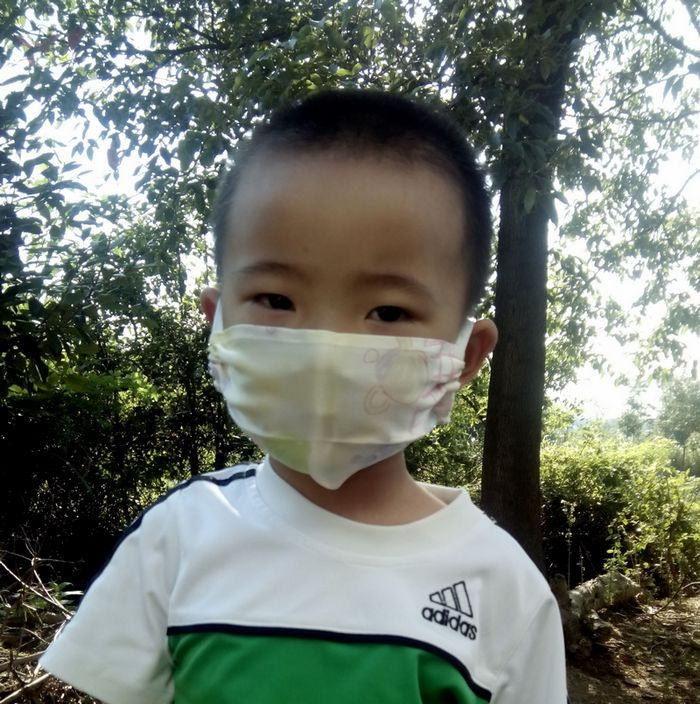face_mask: (215, 152, 461, 473)
